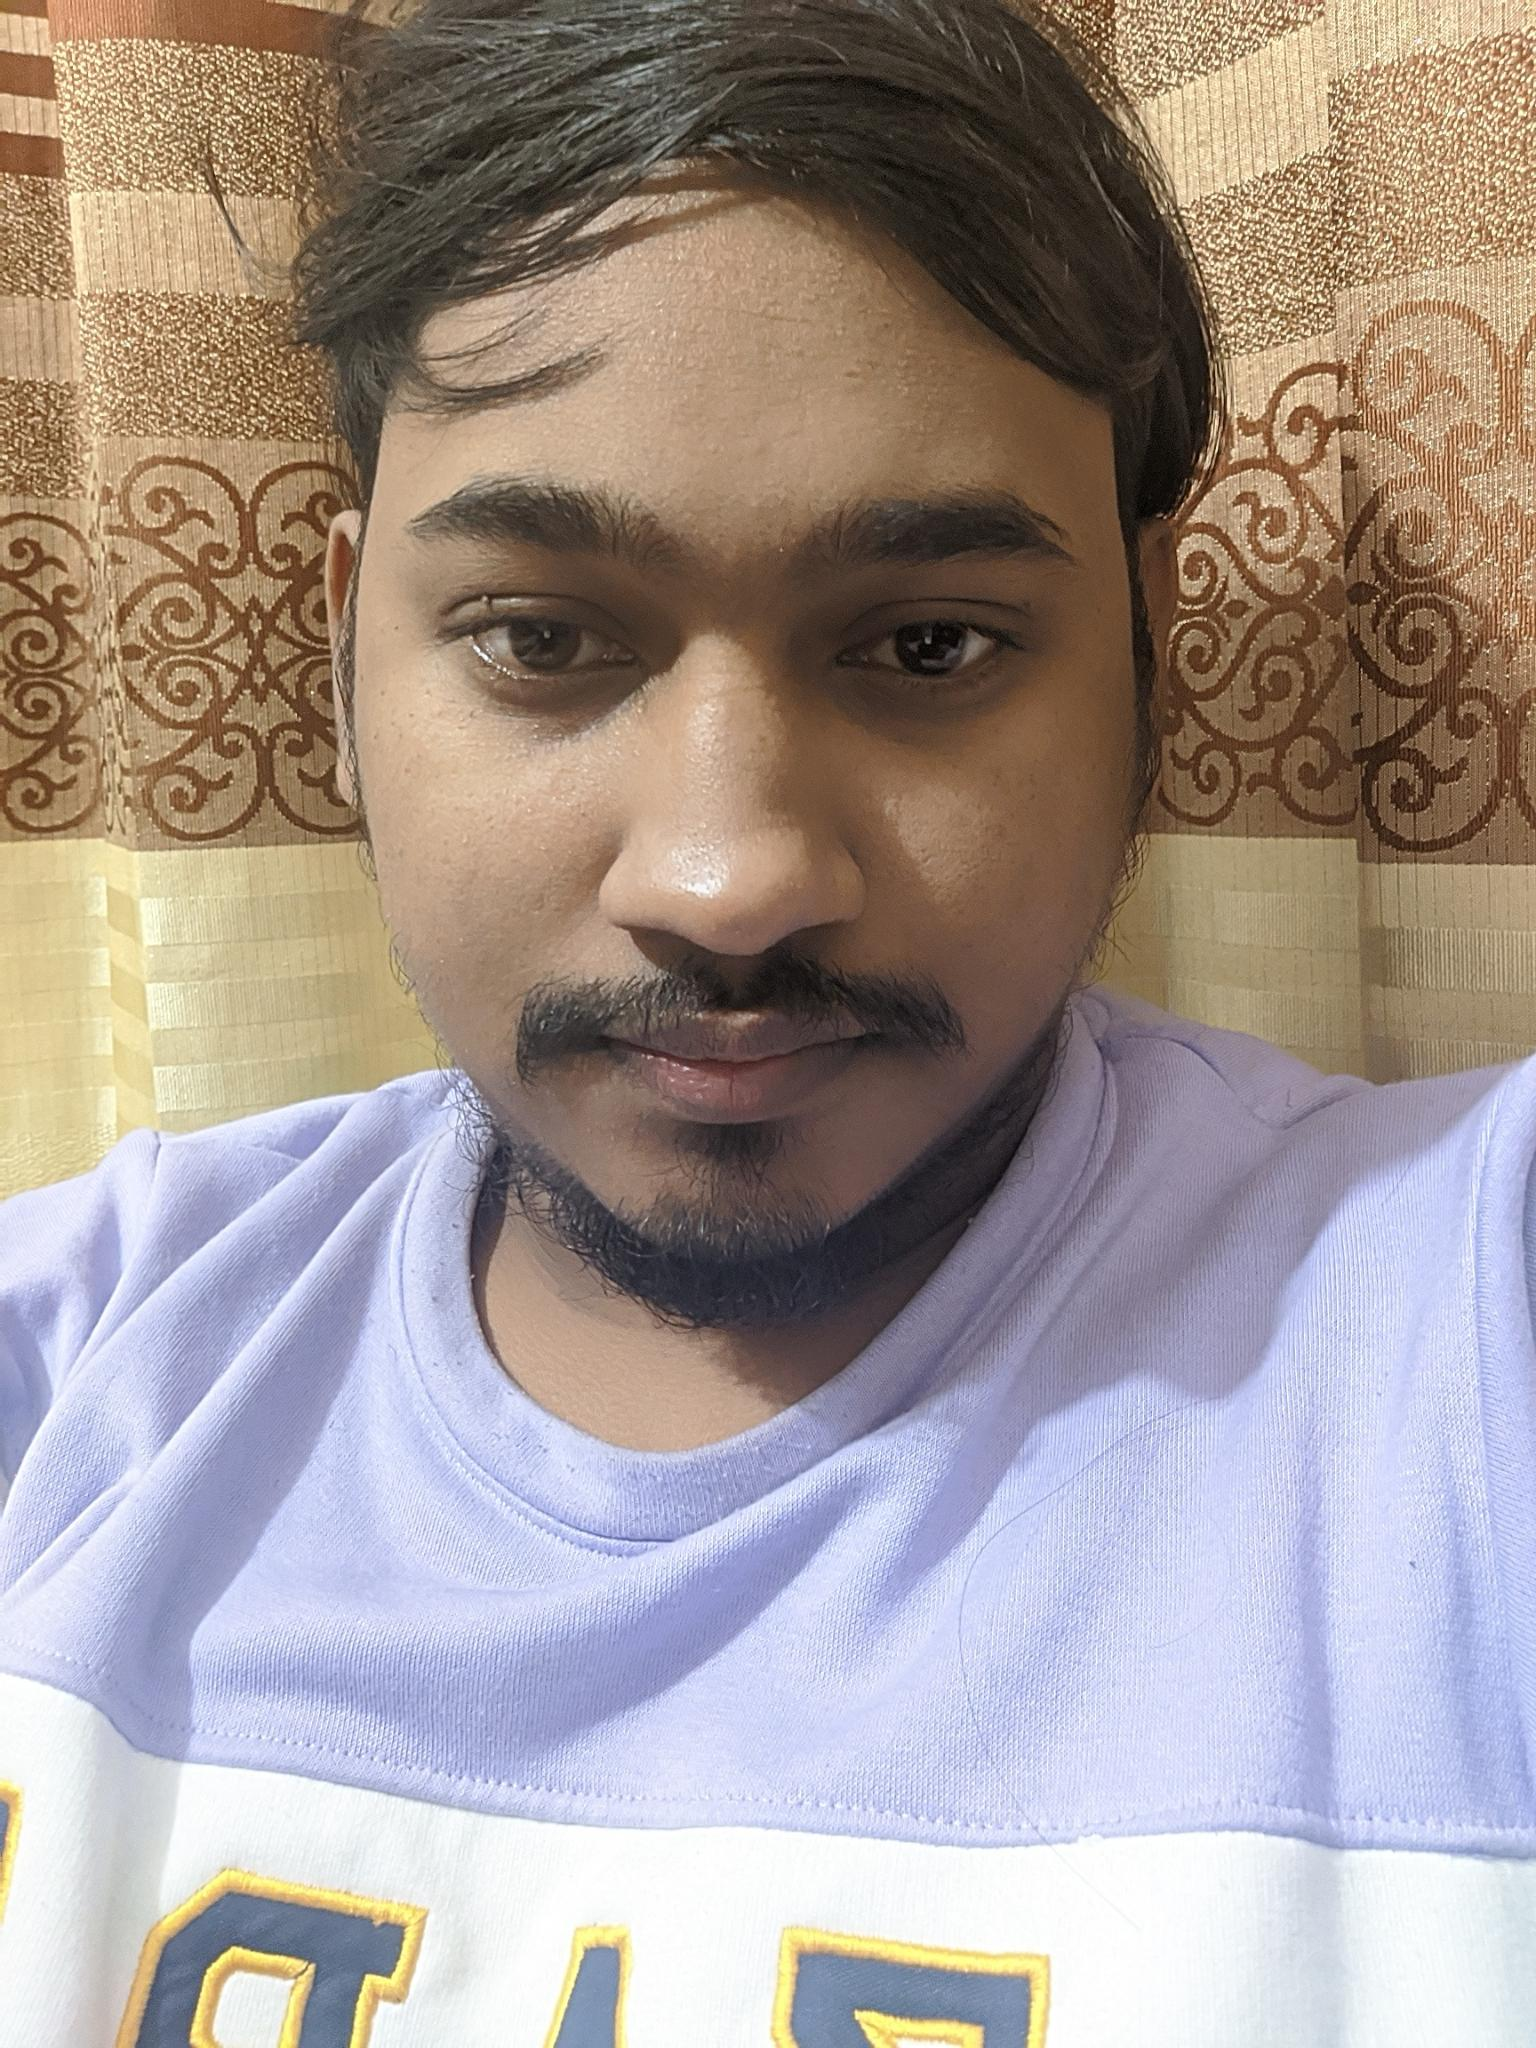Neutral: (357, 361, 1173, 1337)
